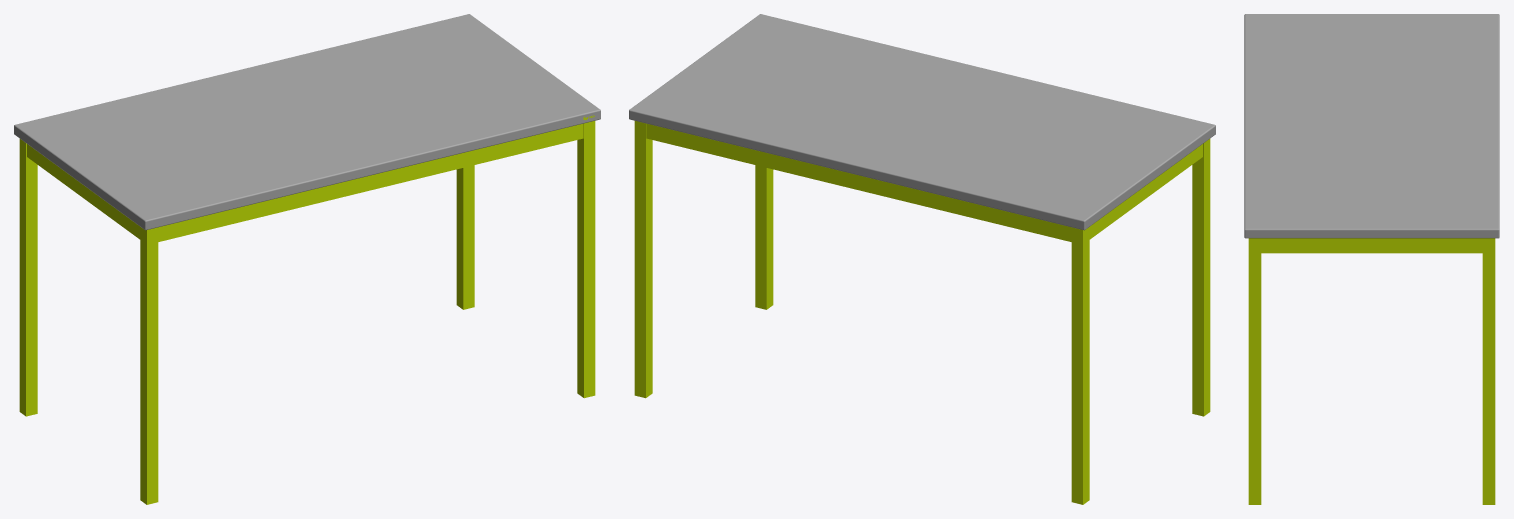
File: conference_120x60_FIN.fbx
3 renders of one model, left to right at view 1: azimuth 30°, elevation 25°; view 2: azimuth 150°, elevation 25°; view 3: azimuth 270°, elevation 25°, orthographic. The views are drawn at different scales.
Visible parts, largest first — view 1: drewno_mesh, metal_mesh; view 2: drewno_mesh, metal_mesh; view 3: drewno_mesh, metal_mesh.
Part boxes in pixels (x1,y1,x2,y2): drewno_mesh: (14,14,600,230); metal_mesh: (19,115,595,500); drewno_mesh: (629,14,1215,230); metal_mesh: (634,121,1210,500); drewno_mesh: (1244,14,1499,238); metal_mesh: (1248,238,1495,500).
Bounding box in the file's own units: 120 × 72 × 60.01.
